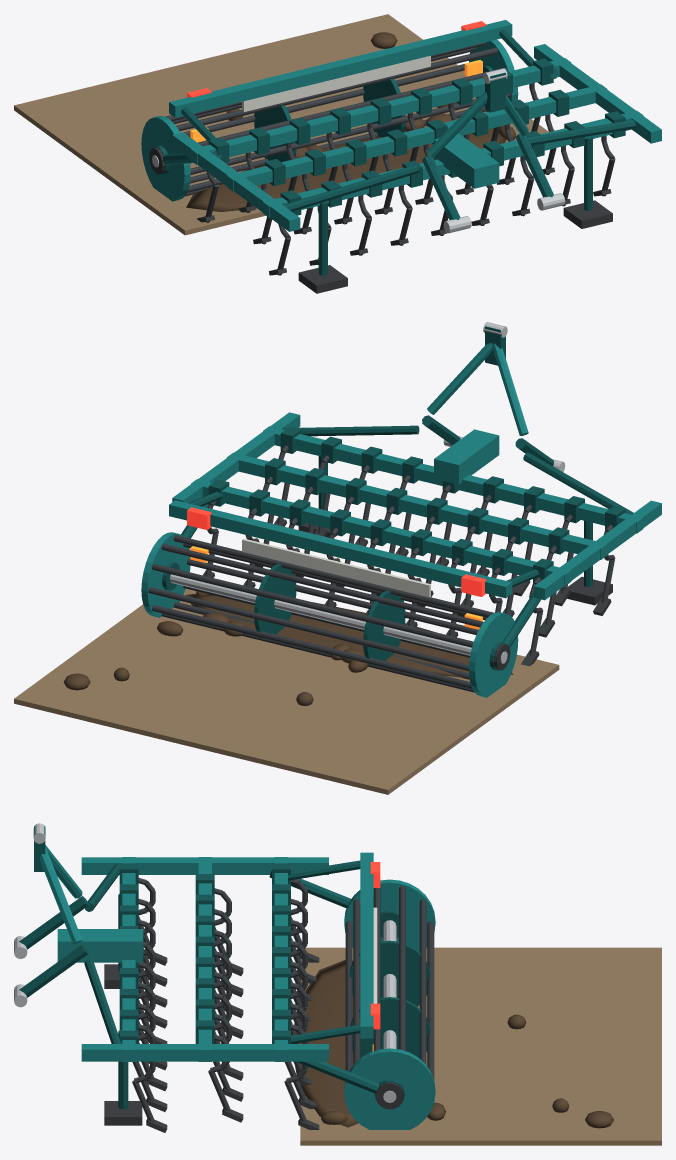
File: spring_harrow.glb
3 views of the same model, one above another, from view 1: azimuth 30°, elevation 25°; view 2: azimuth 150°, elevation 25°; view 3: azimuth 270°, elevation 25° (orthographic). The views are drawn at different scales.
Visible parts, largest first — view 1: SpringBody, SpringProps, SpringRoller; view 2: SpringProps, SpringBody, SpringRoller; view 3: SpringProps, SpringBody, SpringRoller.
Part boxes in pixels (x1,y1,x2,y2): SpringBody: (149,20,661,293); SpringProps: (14,14,548,235); SpringRoller: (141,39,518,201); SpringProps: (14,588,559,794); SpringBody: (169,322,661,670); SpringRoller: (141,532,518,697); SpringProps: (294,947,661,1145); SpringBody: (14,823,403,1132); SpringRoller: (344,879,435,1129).
Bounding box in the file's own units: 2.4 × 1.28 × 3.41.
